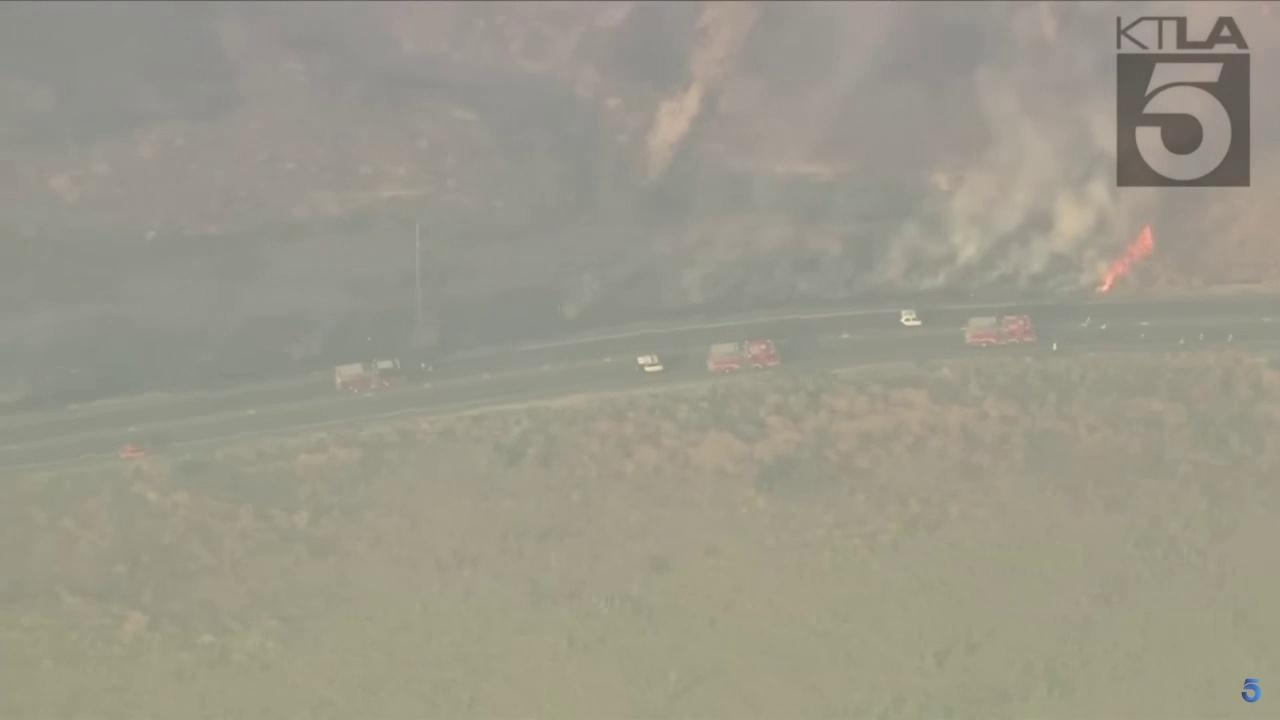fire: (1096, 224, 1157, 293)
smoke: (0, 0, 1117, 379)
